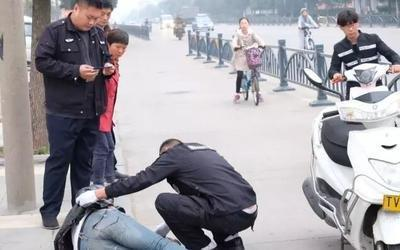Fall-Detected: (49, 181, 224, 250)
